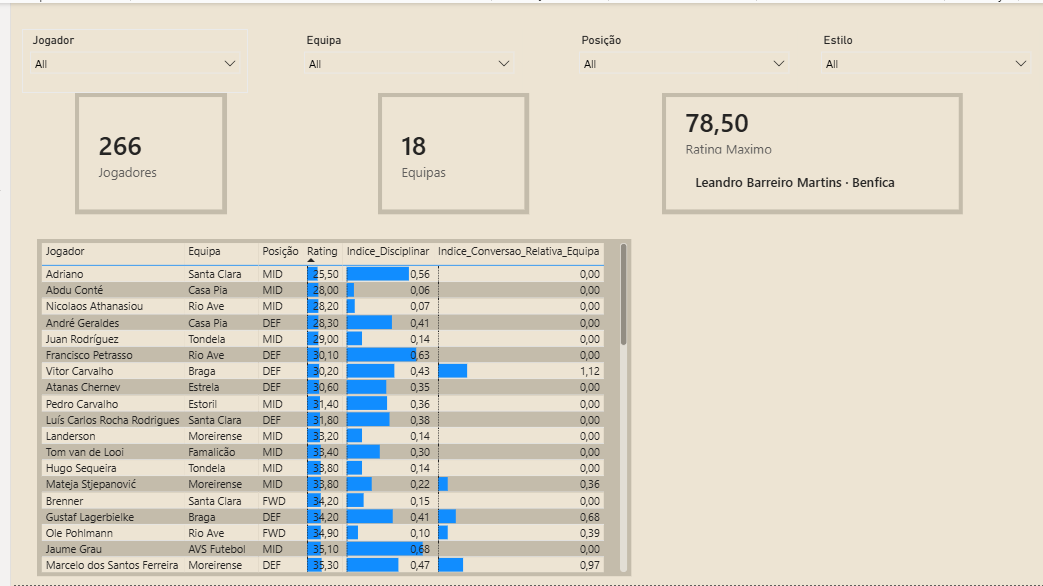

The page's visual inventory and layout, read from the dashboard file:
{"tool":"powerbi","page":{"name":"Page 2","canvas":[1280,720],"ordinal":1},"visuals":[{"type":"slicer","fields":{"Values":["LigaPortugal_2025_2026.Player"]},"box":[13.5,32.7,279.7,78.9],"z":0},{"type":"slicer","fields":{"Values":["LigaPortugal_2025_2026.Squad"]},"box":[353,32.7,279.7,78.9],"z":1000},{"type":"slicer","fields":{"Values":["LigaPortugal_2025_2026.Grupo_Posicao"]},"box":[692.4,32.7,279.7,78.9],"z":2000},{"type":"slicer","fields":{"Values":["LigaPortugal_2025_2026.estilo"]},"box":[991.3,32.7,279.7,78.9],"z":3000},{"type":"cardVisual","fields":{"Data":["LigaPortugal_2025_2026.Total Jogadores"]},"box":[79.1,111.3,188,149.6],"z":4000},{"type":"cardVisual","fields":{"Data":["LigaPortugal_2025_2026.Total Equipas"]},"box":[453.9,111.3,186.7,149.6],"z":5000},{"type":"cardVisual","fields":{"Data":["LigaPortugal_2025_2026.Rating Maximo"]},"box":[805.1,111.3,372.3,149.6],"z":6000},{"type":"tableEx","fields":{"Values":["LigaPortugal_2025_2026.Player","LigaPortugal_2025_2026.Squad","LigaPortugal_2025_2026.Grupo_Posicao","LigaPortugal_2025_2026.rating","LigaPortugal_2025_2026.Indice_Disciplinar","LigaPortugal_2025_2026.Indice_Conversao_Relativa_Equipa"]},"box":[32.2,291.9,734.6,416.8],"z":7000}]}

Visuals, with their boxes on the page's 1280x720 design canvas (x1, y1, x2, y2). These are canvas units, not pixel positions in the 1043x586 screenshot, which may show the page scaled, cropped or inside an application window:
slicer - LigaPortugal_2025_2026.Player: l=14, t=33, r=293, b=112
slicer - LigaPortugal_2025_2026.Squad: l=353, t=33, r=633, b=112
slicer - LigaPortugal_2025_2026.Grupo_Posicao: l=692, t=33, r=972, b=112
slicer - LigaPortugal_2025_2026.estilo: l=991, t=33, r=1271, b=112
cardVisual - LigaPortugal_2025_2026.Total Jogadores: l=79, t=111, r=267, b=261
cardVisual - LigaPortugal_2025_2026.Total Equipas: l=454, t=111, r=641, b=261
cardVisual - LigaPortugal_2025_2026.Rating Maximo: l=805, t=111, r=1177, b=261
tableEx - LigaPortugal_2025_2026.Player x LigaPortugal_2025_2026.Squad: l=32, t=292, r=767, b=709
